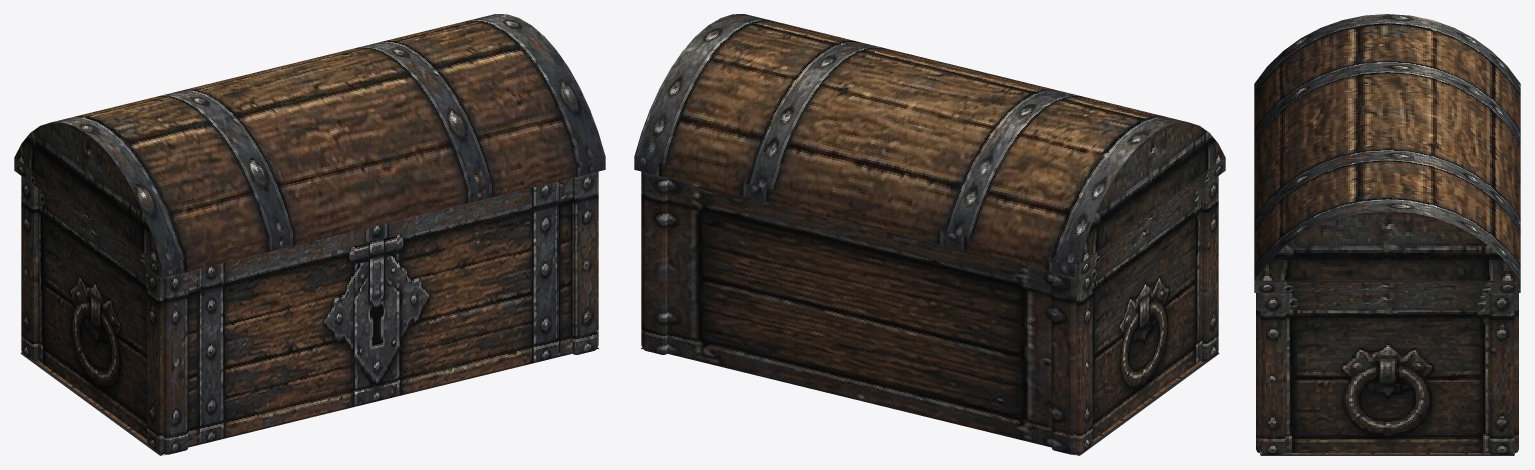
Rendered from chest_domed_iron.glb.
3 renders of one model, left to right at view 1: azimuth 30°, elevation 25°; view 2: azimuth 150°, elevation 25°; view 3: azimuth 270°, elevation 25°, orthographic. The views are drawn at different scales.
Visible parts, largest first — view 1: body, lid; view 2: body, lid; view 3: lid, body.
Part boxes in pixels (box(x1,y1,x2,y2)): body: box(20, 171, 598, 455); lid: box(14, 14, 605, 278); body: box(641, 171, 1219, 455); lid: box(634, 14, 1225, 278); lid: box(1254, 14, 1520, 292); body: box(1256, 293, 1518, 455).
Bounding box in the file's own units: 1.03 × 0.6 × 0.588.
1 material, 1 textured.
